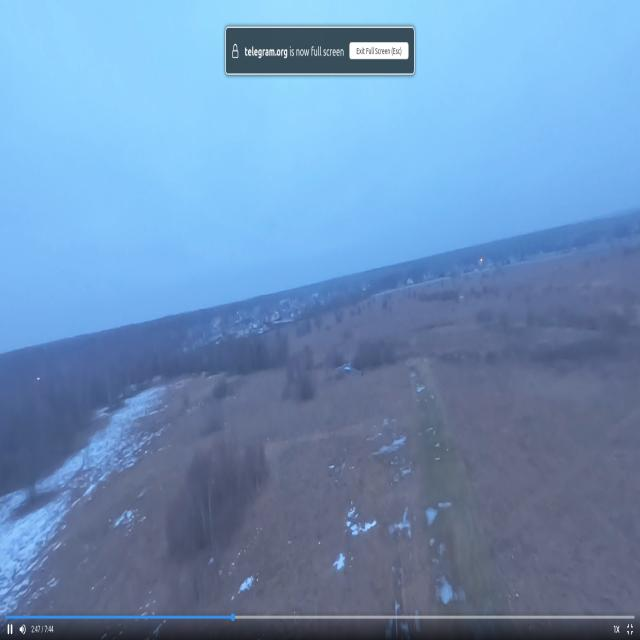planedrone: (330, 353, 363, 382)
